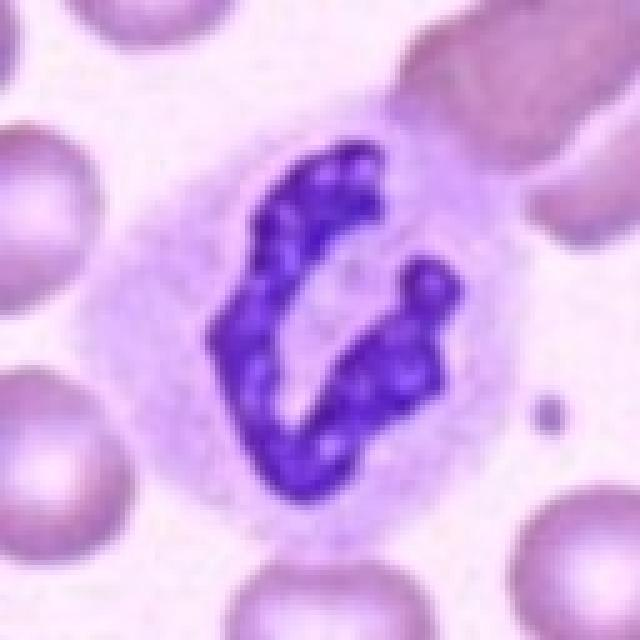neutro: (89, 83, 528, 526)
